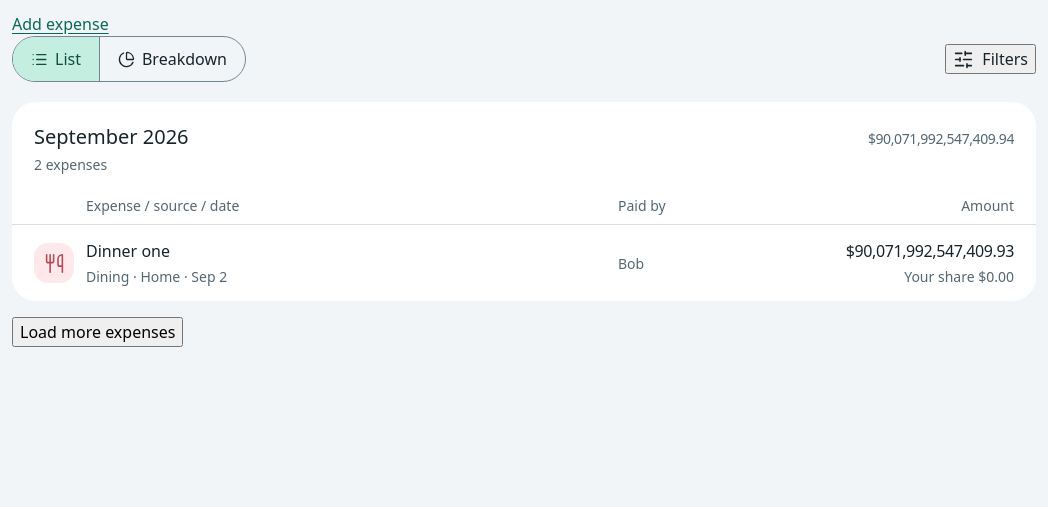
Test case: starts a new traversal when browser history changes structured filters after paging
Step 1. Click the button "Load more expenses" → [98, 332], box [12,317,183,347]
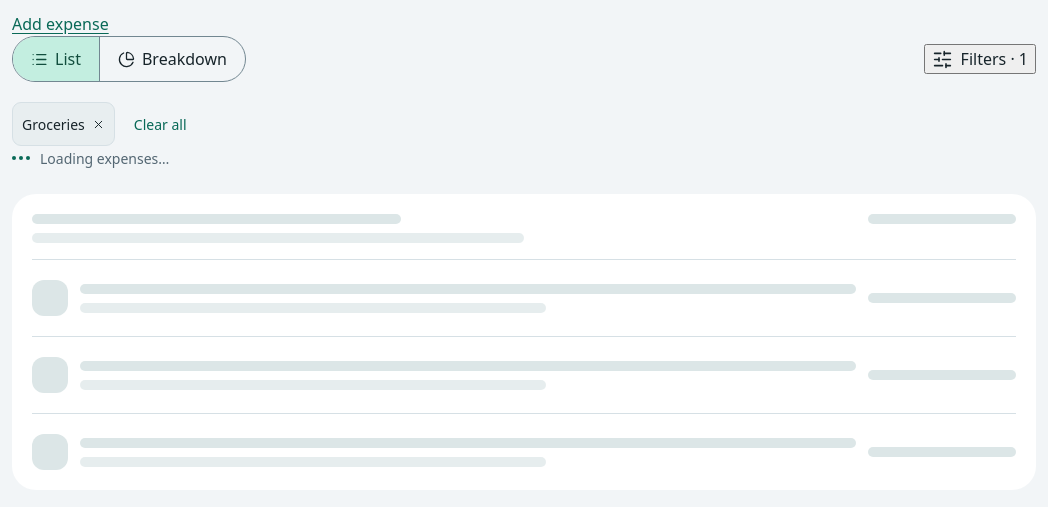
Check: the text "Dinner one" is gone
